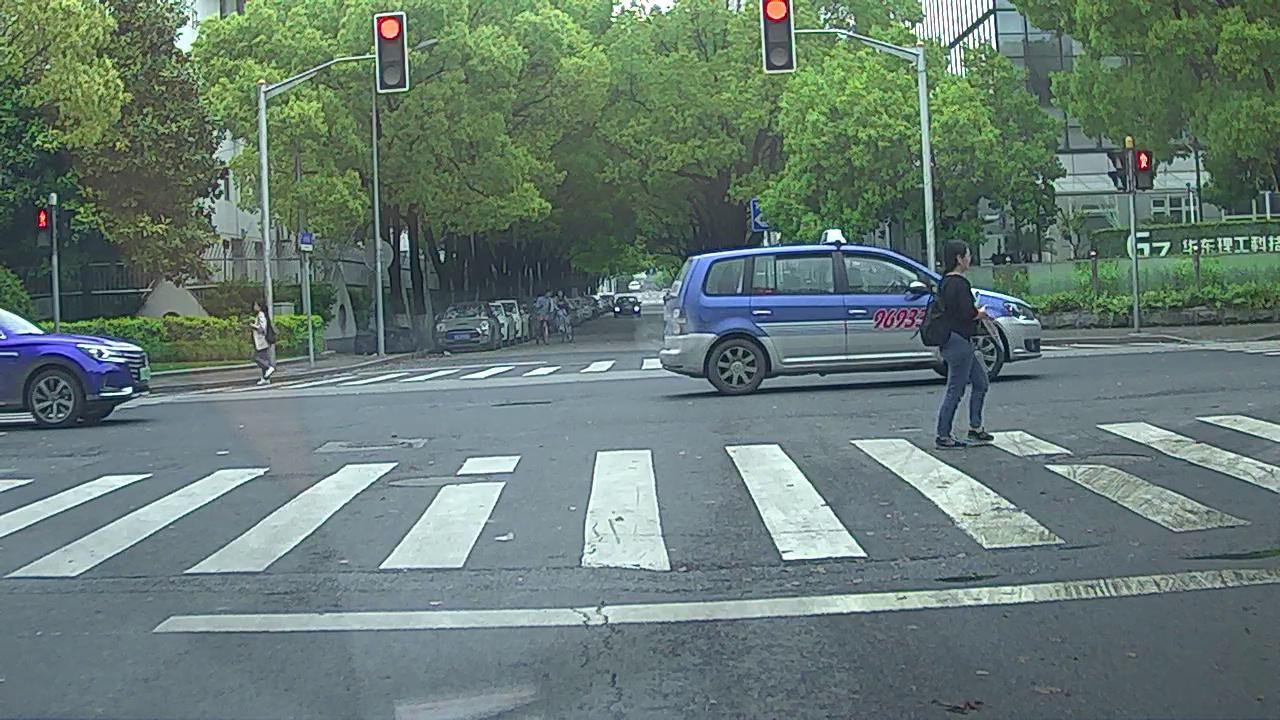traffic_light: (761, 1, 793, 70), (377, 16, 405, 93)
